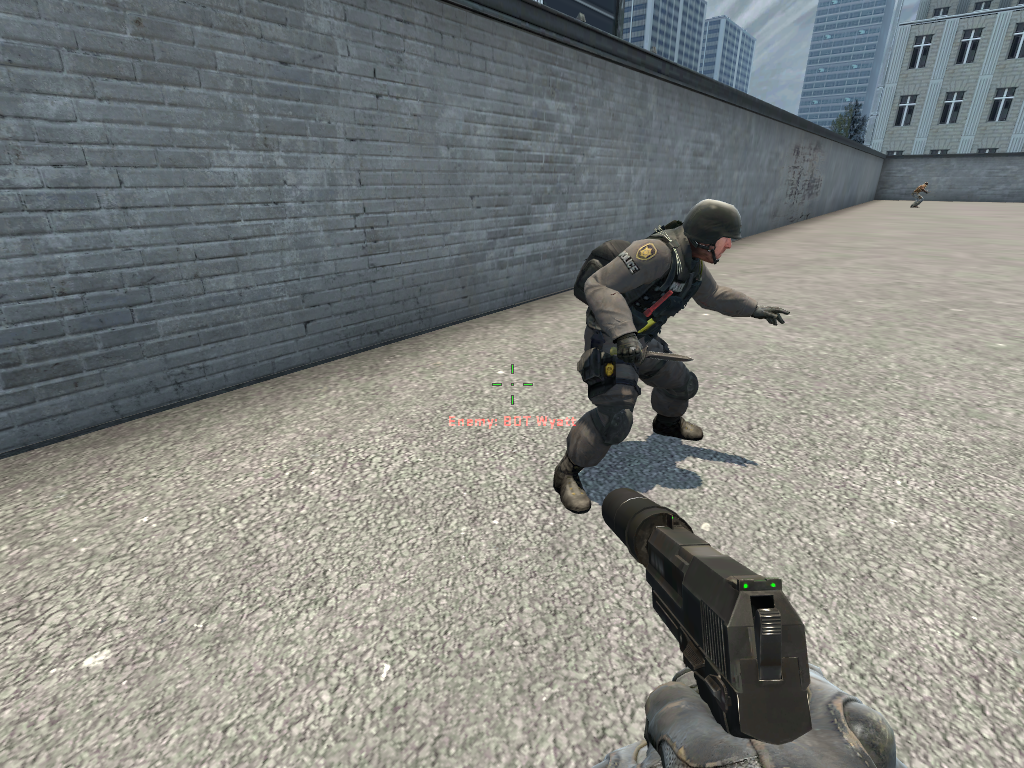ct head: (674, 194, 749, 265)
